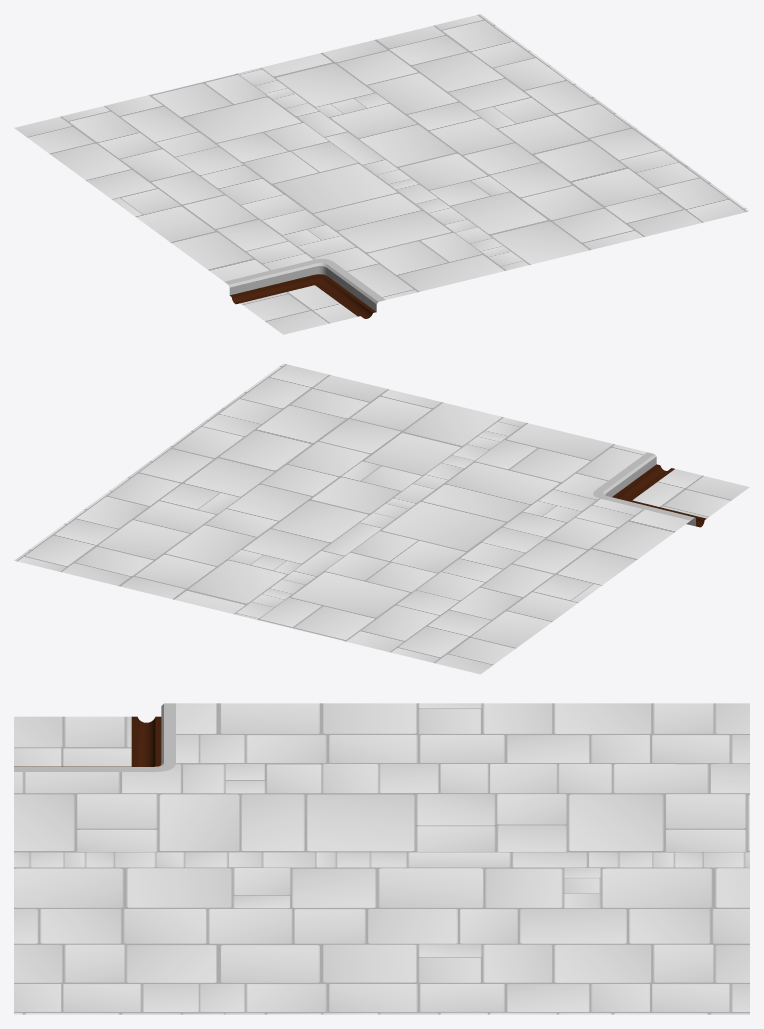
File: Shop.fbx
3 renders of one model, top to bottom at view 1: azimuth 30°, elevation 25°; view 2: azimuth 150°, elevation 25°; view 3: azimuth 270°, elevation 25°, orthographic. The views are drawn at different scales.
Visible parts, largest first — view 1: Sidewalk_Corner; view 2: Sidewalk_Corner; view 3: Sidewalk_Corner.
Part boxes in pixels (box(x1,y1,x2,y2)): Sidewalk_Corner: box(14, 14, 749, 334); Sidewalk_Corner: box(14, 363, 749, 674); Sidewalk_Corner: box(14, 703, 749, 1014).
Size of the model in its own units: 2500 by 72.5 by 2500.
